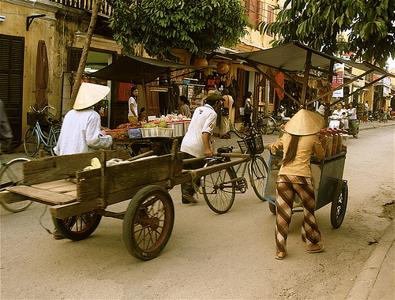person: (268, 107, 328, 260)
